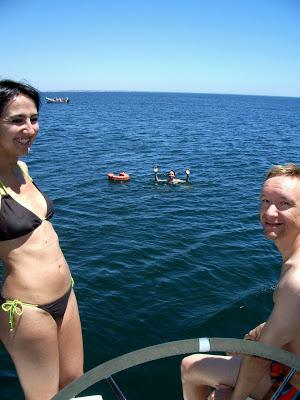human: (0, 79, 84, 397), (238, 157, 300, 399), (154, 161, 191, 188)
